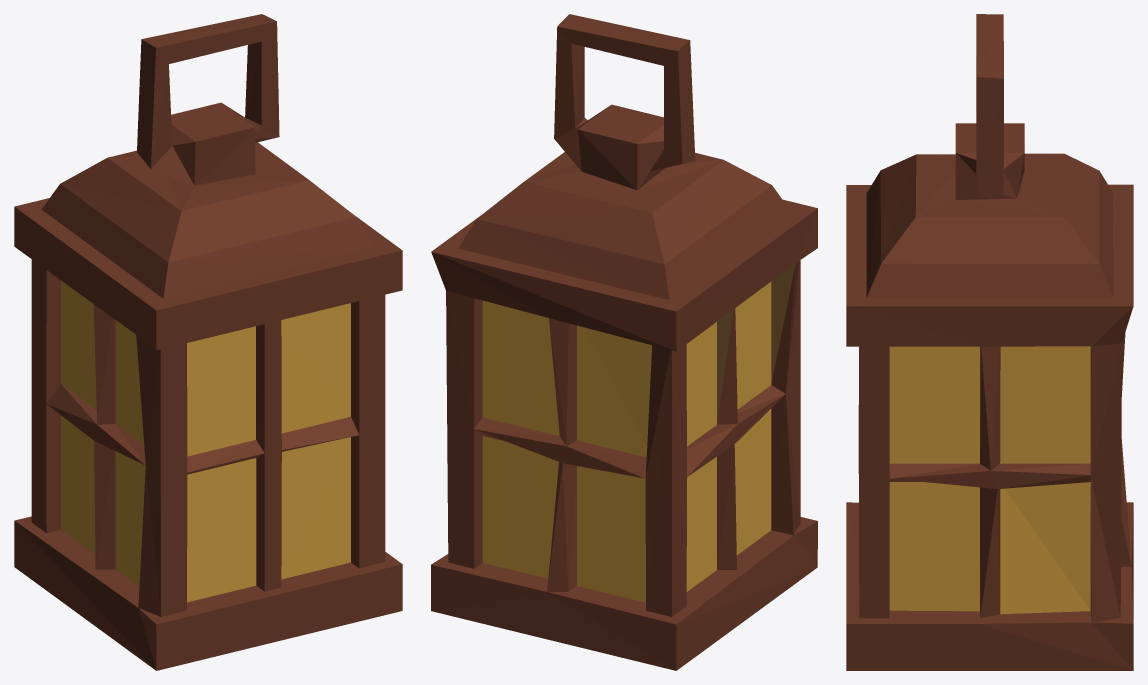
Rendered from mdvl_interiors_lantern_01.glb.
The picture shows the model from 3 angles, left to right: view 1: azimuth 30°, elevation 25°; view 2: azimuth 150°, elevation 25°; view 3: azimuth 270°, elevation 25°; orthographic projection.
Parts seen in each view (by area): view 1: mdvl_interiors_lantern_01; view 2: mdvl_interiors_lantern_01; view 3: mdvl_interiors_lantern_01.
Boxes of the visible parts, x1,y1,x2,y2 form: mdvl_interiors_lantern_01: [14, 14, 402, 670]; mdvl_interiors_lantern_01: [431, 14, 817, 670]; mdvl_interiors_lantern_01: [846, 14, 1133, 670].
Size of the model in its own units: 0.1328 by 0.2886 by 0.1325.
1 material, 1 textured.
